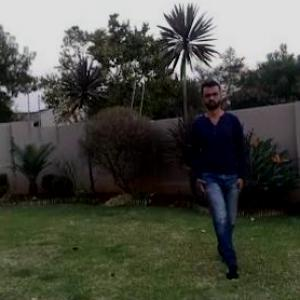follow: (184, 65, 258, 279)
